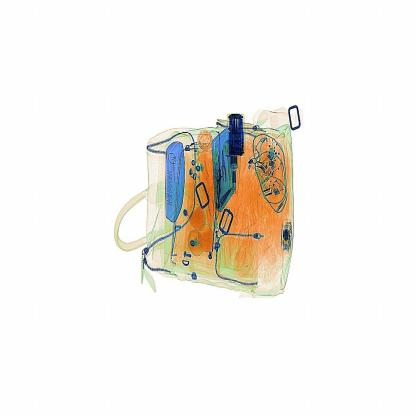scissors: (224, 107, 250, 162)
